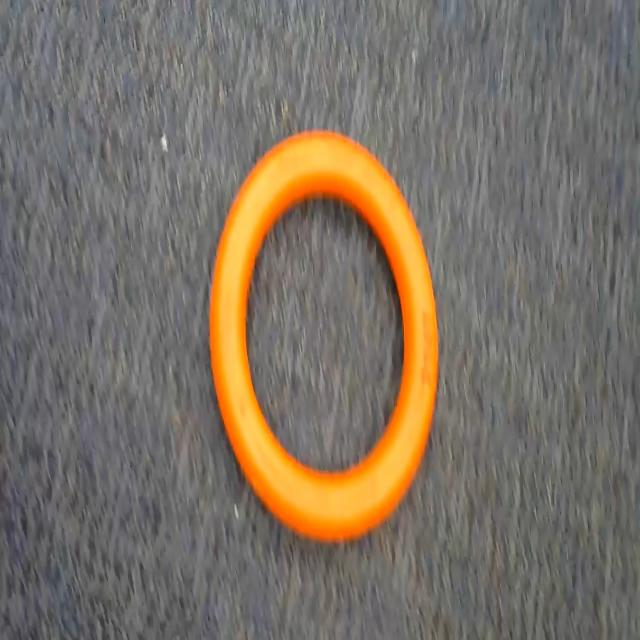note: (204, 119, 452, 550)
